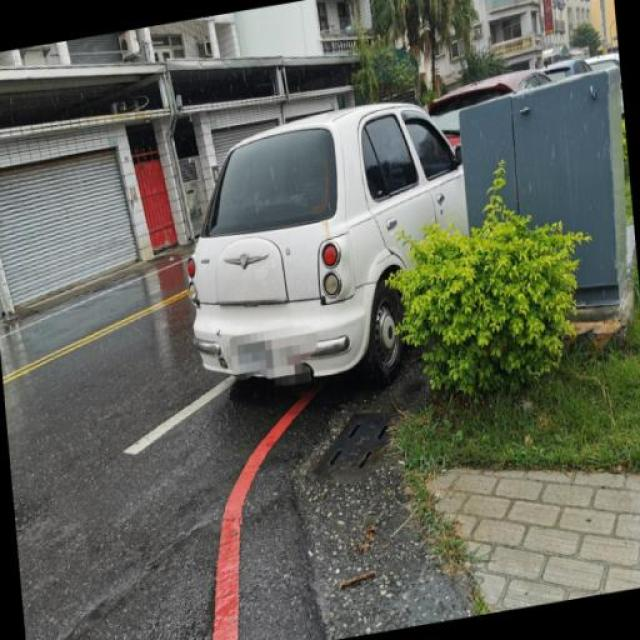illegalparking: (180, 93, 456, 455)
